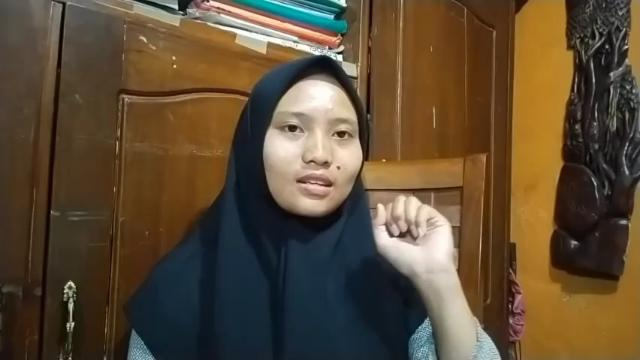S: (368, 192, 459, 284)
